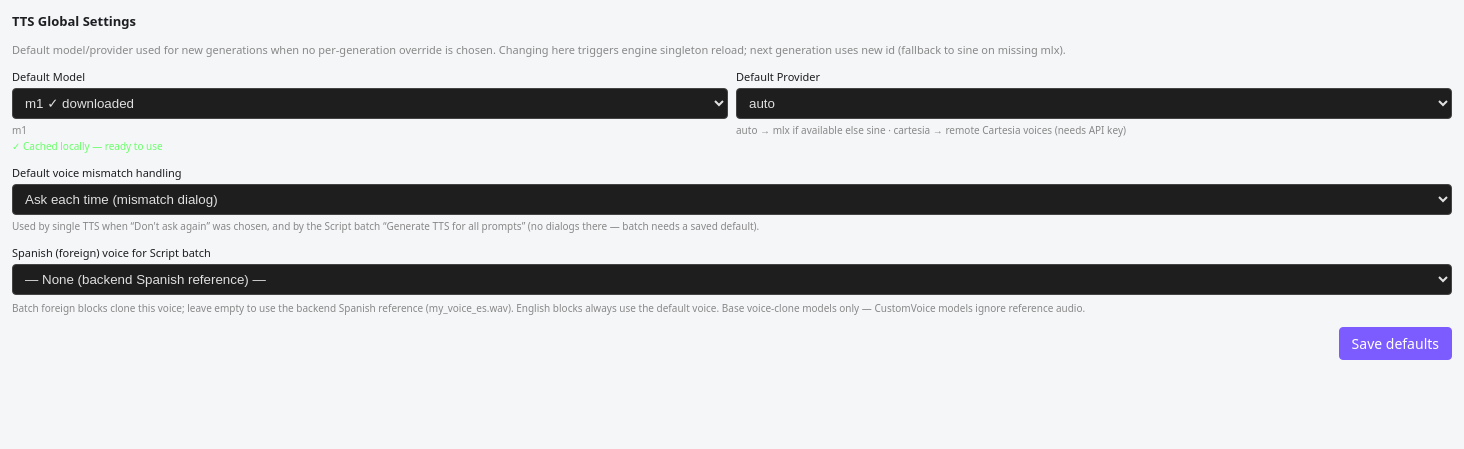
Test case: TtsGlobalSettings Spanish voice for batch › saves a Spanish reference + transcript for batch foreign blocks
The image size is (1464, 449).
Select "Spanish speaker — spanish-" in the dropdown with test id "tts-global-foreign-ref" at (732, 280), box [12,264,1452,295]
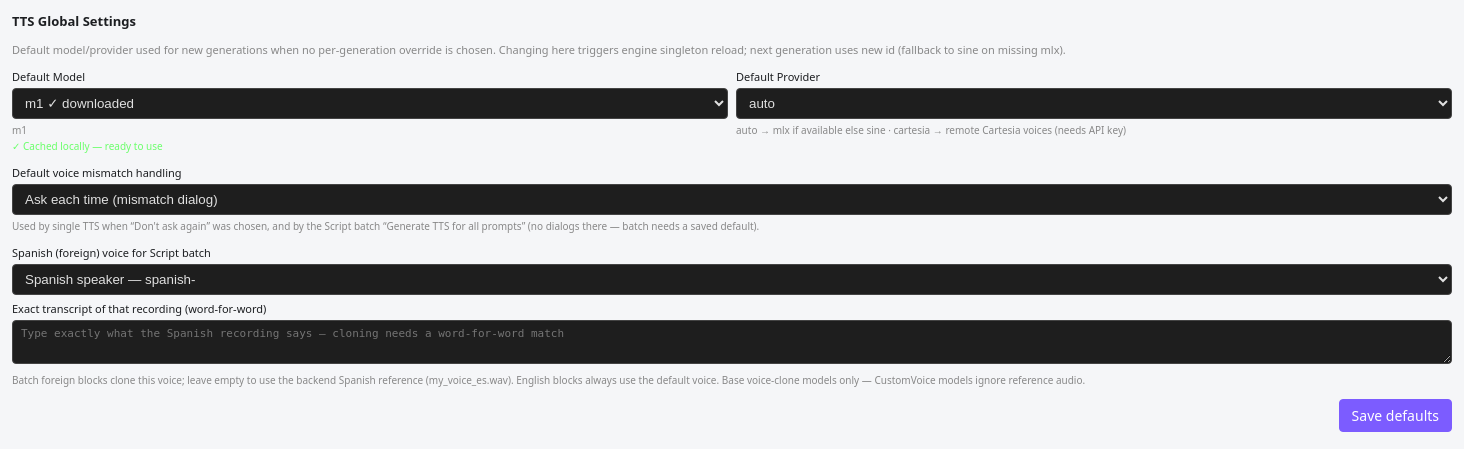
Replace the text in the text box with test id "tts-global-foreign-ref-transcript" with "hola mundo" at (732, 342), box [12,320,1452,364]
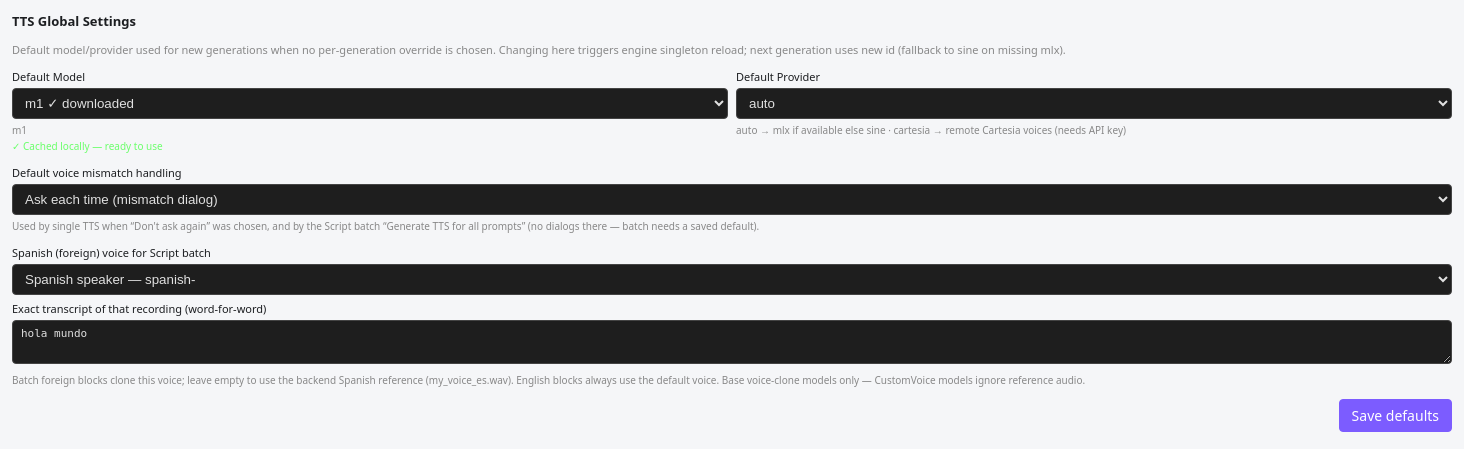
// Clearing the asset drops back to the default speaker.
Select "— None (backend Spanish reference) —" in the dropdown with test id "tts-global-foreign-ref" at (732, 280), box [12,264,1452,295]
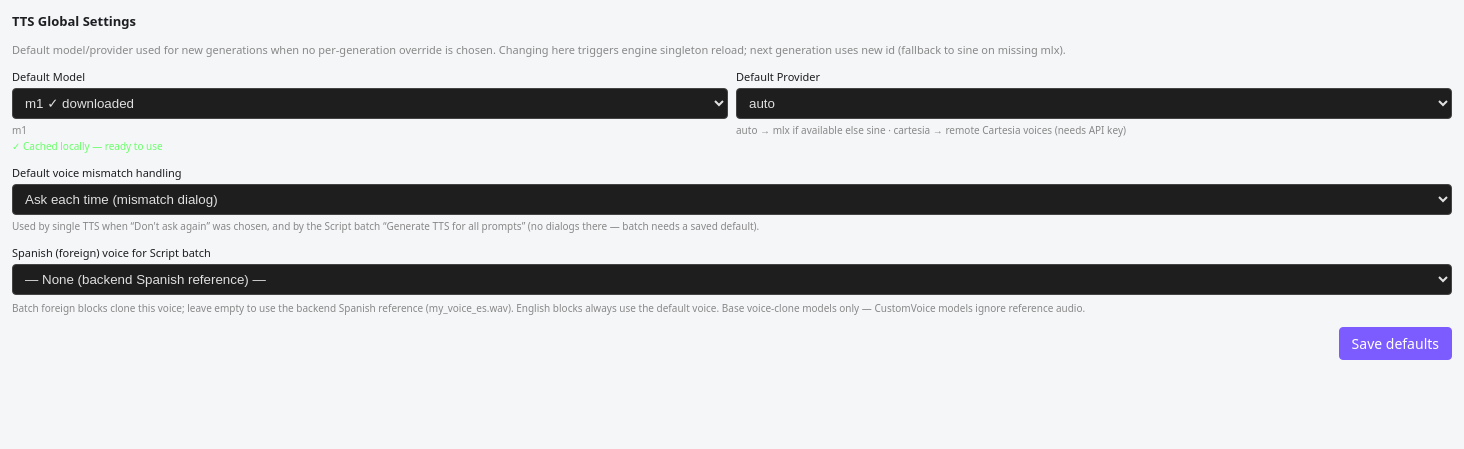
Expected: the text box with test id "tts-global-foreign-ref-transcript" is gone
